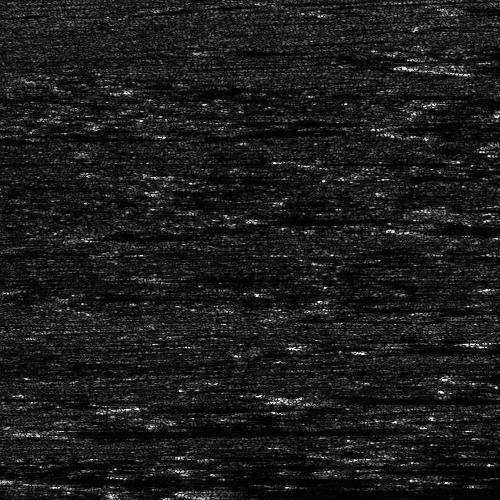rock: (368, 222, 441, 233), (188, 488, 241, 497), (26, 427, 67, 436), (275, 395, 328, 400), (465, 339, 500, 342)
shadow: (215, 488, 500, 497), (47, 427, 309, 436), (405, 222, 500, 233), (302, 395, 498, 400)
